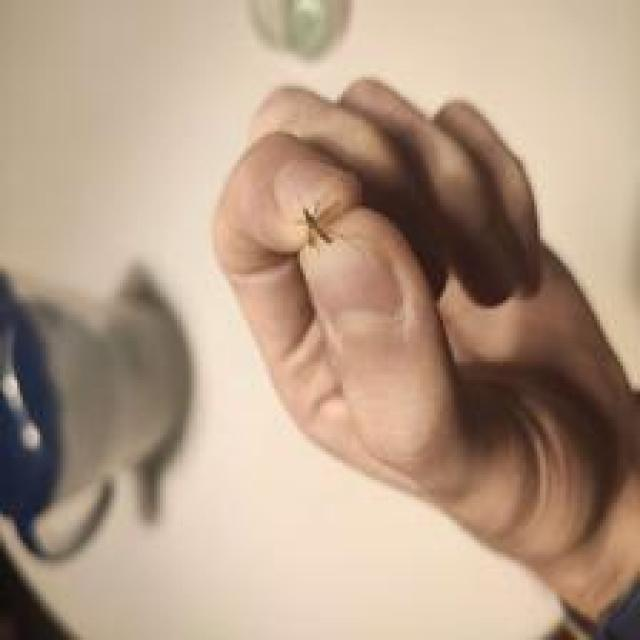Culex: (0, 257, 194, 565)
